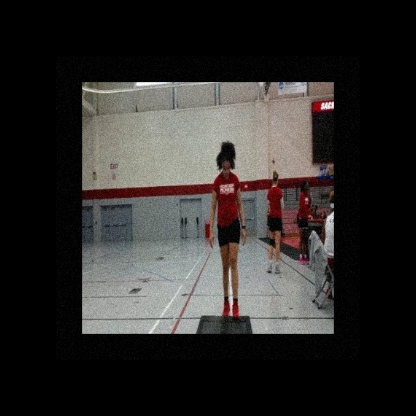lateral_flexion_right: (208, 139, 246, 323)
stance_width_narrow: (208, 170, 247, 323)
